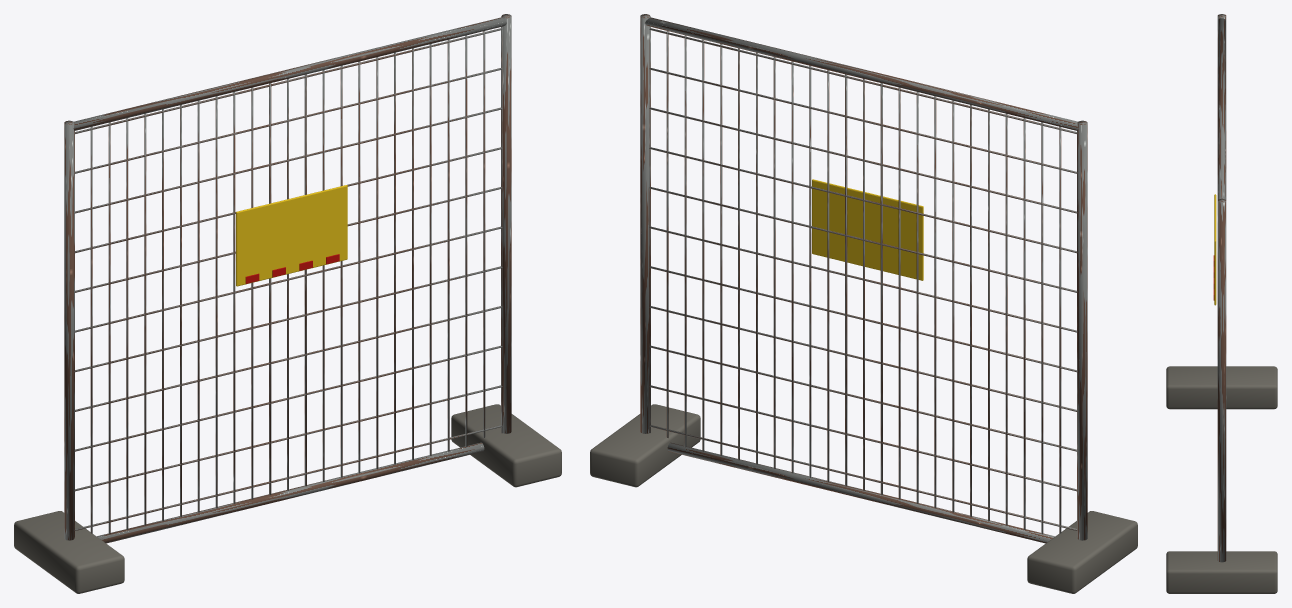
Rendered from fence-panel.glb.
The picture shows the model from 3 angles, left to right: view 1: azimuth 30°, elevation 25°; view 2: azimuth 150°, elevation 25°; view 3: azimuth 270°, elevation 25°; orthographic projection. The views are drawn at different scales.
Visible parts, largest first — view 1: FenceSign, Cube, Cube.001, Cylinder, Cylinder.003, Cylinder.001, Cylinder.002, Cylinder.006, Cylinder.013, Cylinder.025, Cylinder.026, Cylinder.007 (+29 smaller); view 2: FenceSign, Cube, Cube.001, Cylinder, Cylinder.003, Cylinder.001, Cylinder.002, Cylinder.006, Cylinder.019, Cylinder.013, Cylinder.025, Cylinder.026 (+30 smaller); view 3: Cube.001, Cube, Cylinder.001, Cylinder.003, Cylinder, FenceSign.
Part boxes in pixels (<box>): FenceSign: <box>236,185,347,286</box>; Cube: <box>14,511,124,593</box>; Cube.001: <box>451,404,561,487</box>; Cylinder: <box>64,120,74,540</box>; Cylinder.003: <box>73,17,506,130</box>; Cylinder.001: <box>501,14,511,433</box>; Cylinder.002: <box>97,442,484,543</box>; Cylinder.006: <box>108,122,110,534</box>; Cylinder.013: <box>233,92,235,503</box>; Cylinder.025: <box>447,39,449,451</box>; Cylinder.026: <box>465,35,467,447</box>; Cylinder.007: <box>126,118,128,529</box>; FenceSign: <box>812,179,923,280</box>; Cube: <box>1027,511,1137,593</box>; Cube.001: <box>590,404,700,487</box>; Cylinder: <box>1077,120,1087,540</box>; Cylinder.003: <box>645,17,1078,130</box>; Cylinder.001: <box>640,14,650,433</box>; Cylinder.002: <box>667,442,1054,543</box>; Cylinder.006: <box>1041,122,1043,534</box>; Cylinder.019: <box>809,65,811,477</box>; Cylinder.013: <box>916,92,918,503</box>; Cylinder.025: <box>702,39,704,451</box>; Cylinder.026: <box>684,35,686,447</box>; Cube.001: <box>1166,551,1277,593</box>; Cube: <box>1166,366,1277,409</box>; Cylinder.001: <box>1217,198,1226,562</box>; Cylinder.003: <box>1218,18,1225,199</box>; Cylinder: <box>1217,14,1226,199</box>; FenceSign: <box>1214,194,1216,305</box>.
Size of the model in its own units: 2.18 by 1.9 by 0.5.
Materials: 4 (1 with a texture image).
